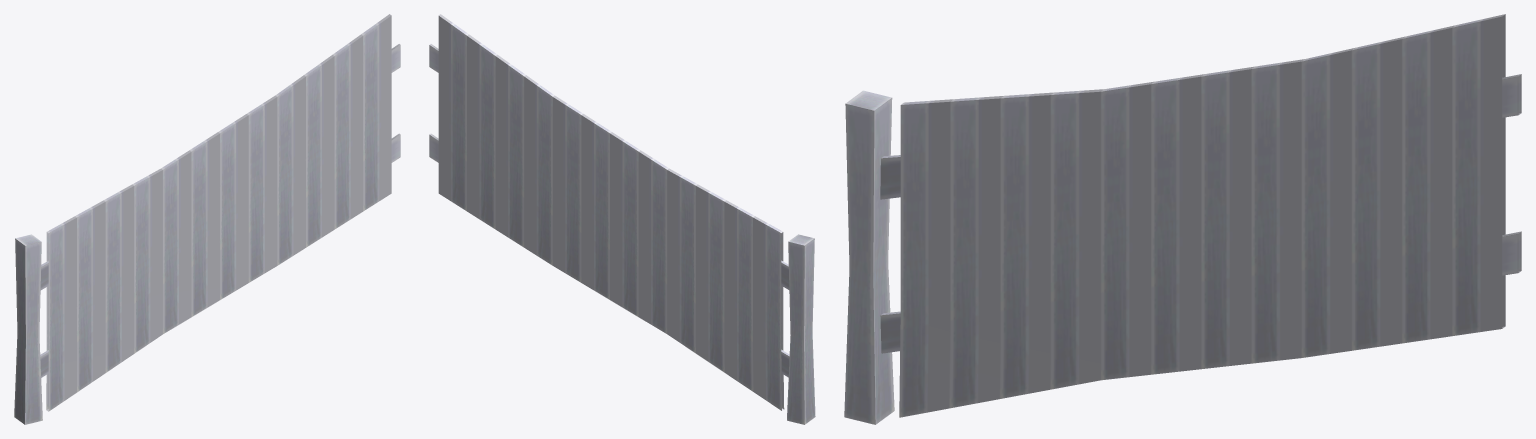
Rendered from INST_HTOWN_FENCEWHT20DEG.fbx.
The picture shows the model from 3 angles, left to right: view 1: azimuth 30°, elevation 25°; view 2: azimuth 150°, elevation 25°; view 3: azimuth 330°, elevation 25°; orthographic projection. The views are drawn at different scales.
Parts seen in each view (by area): view 1: INST_HTOWN_FENCEWHT20DEG; view 2: INST_HTOWN_FENCEWHT20DEG; view 3: INST_HTOWN_FENCEWHT20DEG.
Boxes of the visible parts, x1,y1,x2,y2 form: INST_HTOWN_FENCEWHT20DEG: (14,14,400,424); INST_HTOWN_FENCEWHT20DEG: (429,14,815,424); INST_HTOWN_FENCEWHT20DEG: (844,14,1521,424).
Size of the model in its own units: 30448 by 24175 by 1509.
2 materials, 2 textured.
